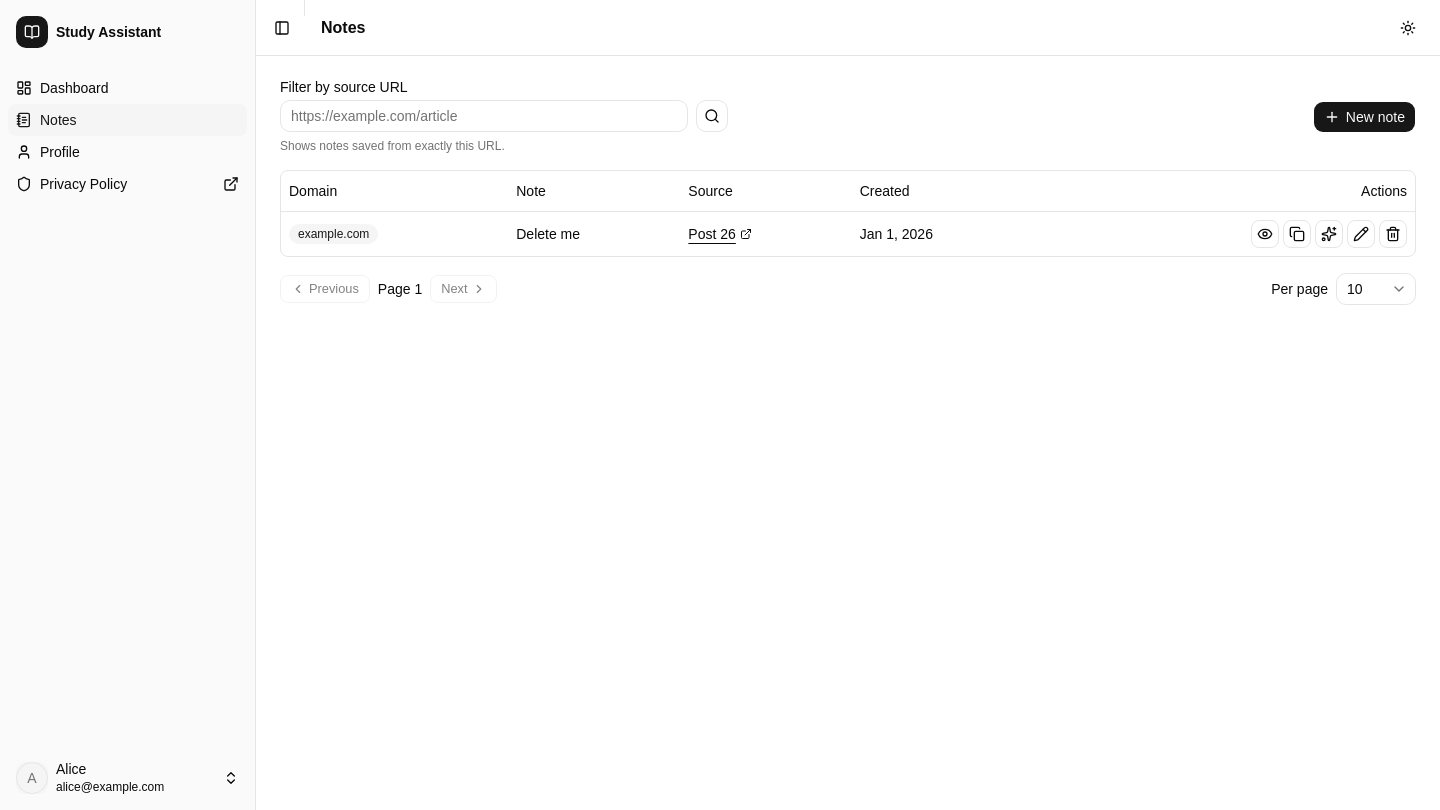
notes page › deletes a note after confirmation
The image size is (1440, 810).
Click the button named "Delete note" at {"x": 1393, "y": 234}, box [1379,220,1407,248]
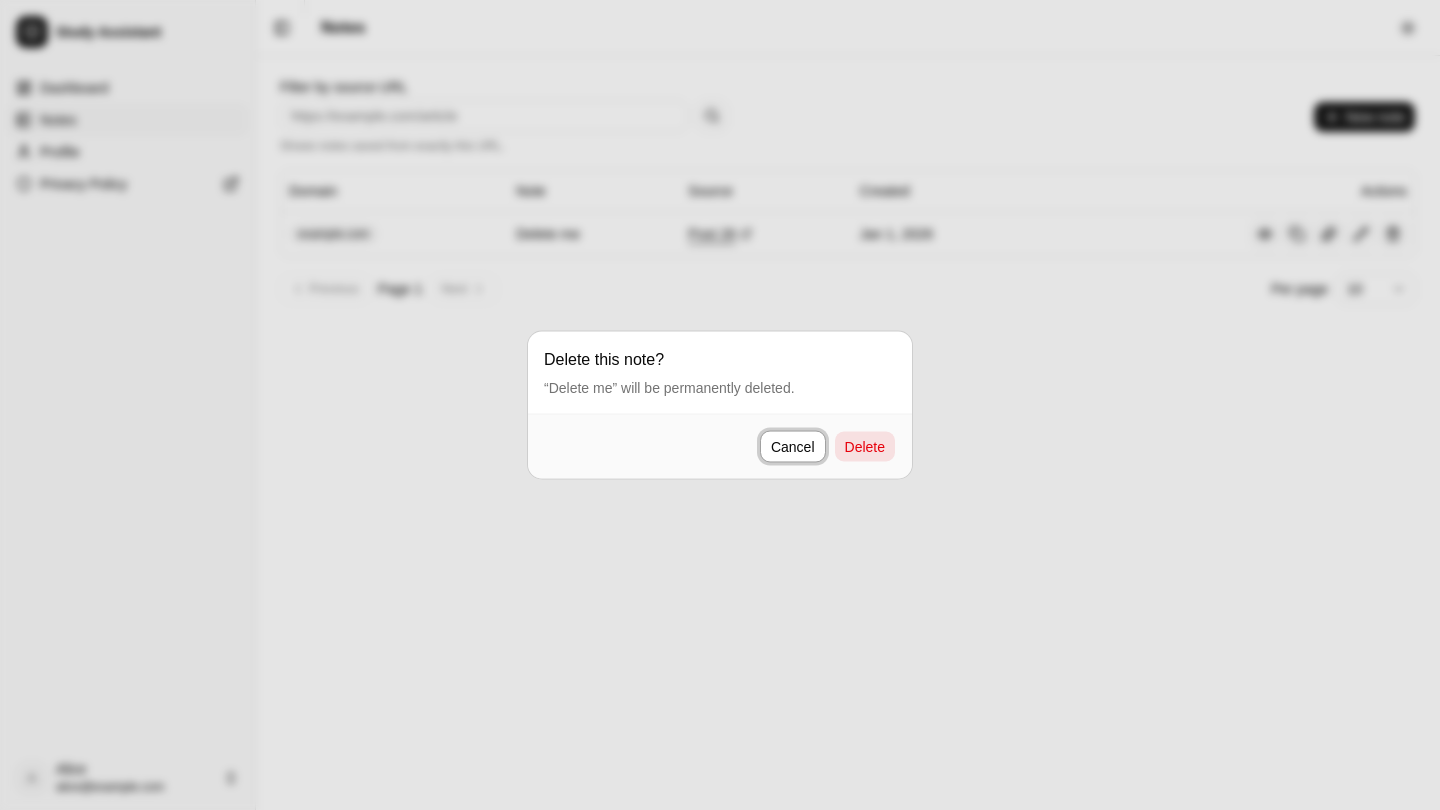
expect the dialog shows "Delete me": met, box [549,380,612,396]
Click the button "Delete" at {"x": 865, "y": 446}, box [834,430,896,462]
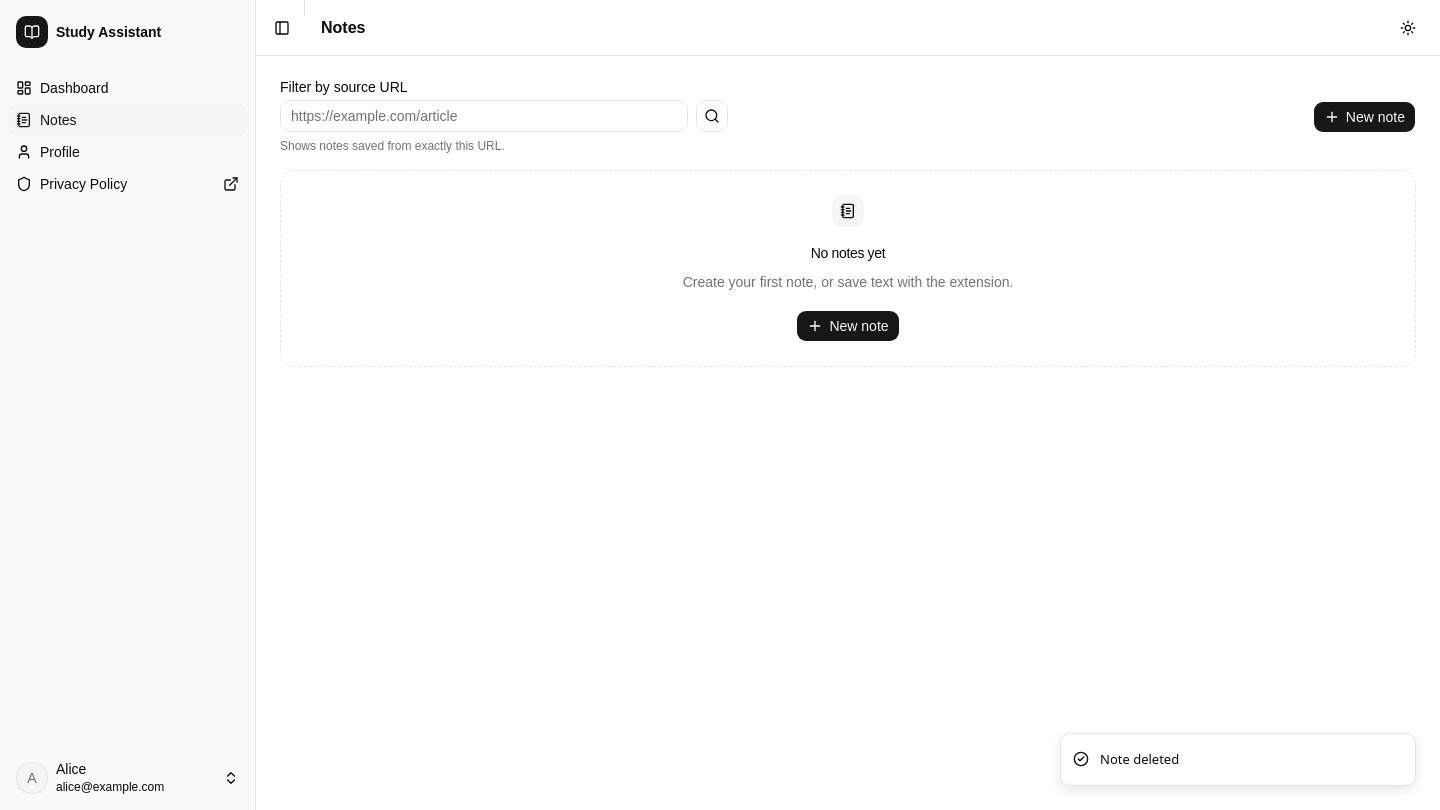
expect the text "Note deleted" is shown: met, box [1100,750,1179,769]
expect the text "No notes yet" is shown: met, box [811,243,885,263]
